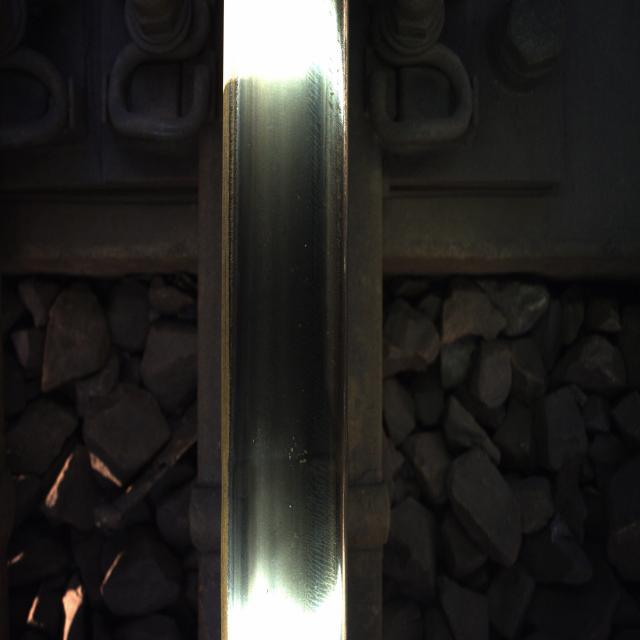break: (234, 65, 318, 623)
